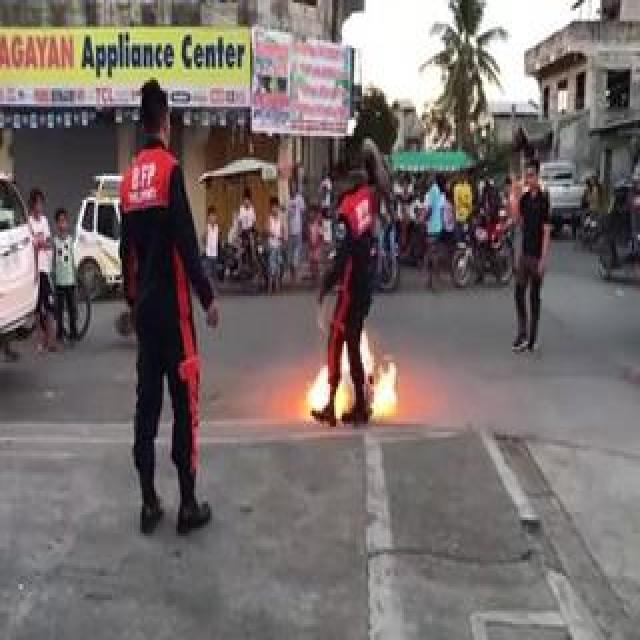Smoke: (308, 316, 400, 425)
